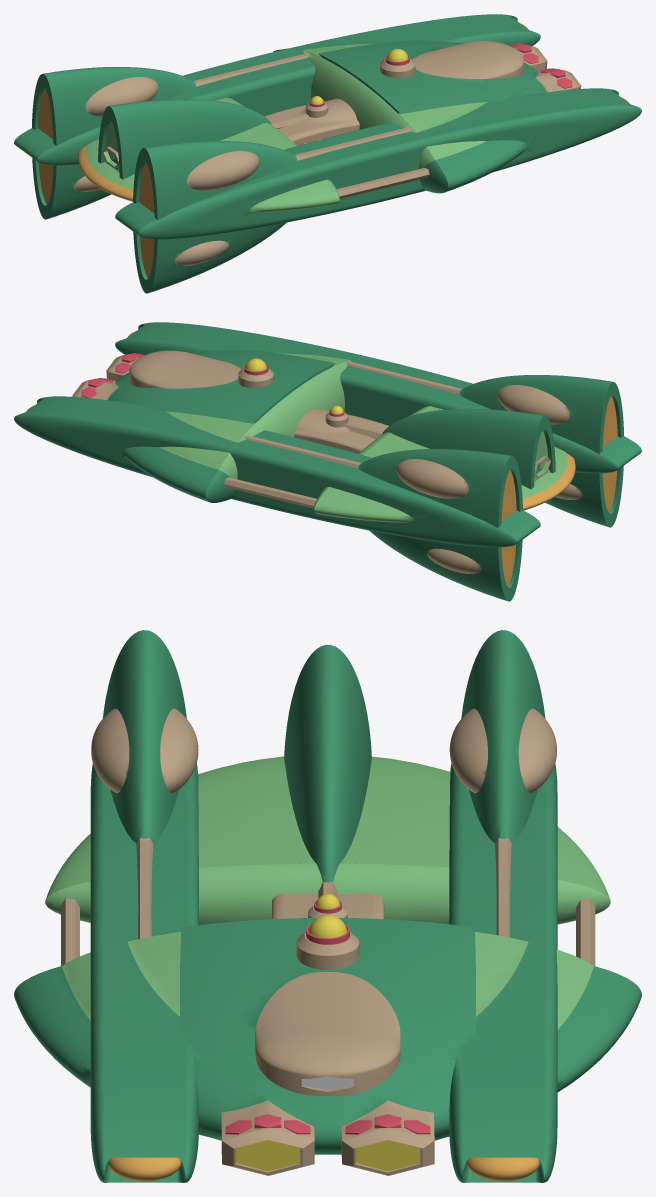
The model's file is kre-ballista.glb.
3 renders of one model, top to bottom at view 1: azimuth 30°, elevation 25°; view 2: azimuth 150°, elevation 25°; view 3: azimuth 270°, elevation 25°, orthographic. The views are drawn at different scales.
Parts seen in each view (by area): view 1: Ballista current hull - authored COLOR_0 regions; view 2: Ballista current hull - authored COLOR_0 regions; view 3: Ballista current hull - authored COLOR_0 regions.
Boxes of the visible parts, box(x1,y1,x2,y2) form: Ballista current hull - authored COLOR_0 regions: box(14, 14, 641, 293); Ballista current hull - authored COLOR_0 regions: box(14, 322, 641, 601); Ballista current hull - authored COLOR_0 regions: box(14, 630, 641, 1182).
Size of the model in its own units: 5.43 by 1.49 by 3.31.
